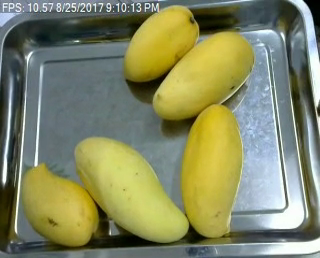Mango: (73, 135, 192, 243), (149, 32, 255, 122), (177, 103, 245, 238), (120, 4, 202, 84), (20, 163, 98, 246)
